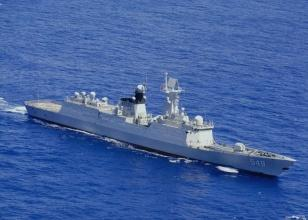warship: (20, 72, 299, 177)
